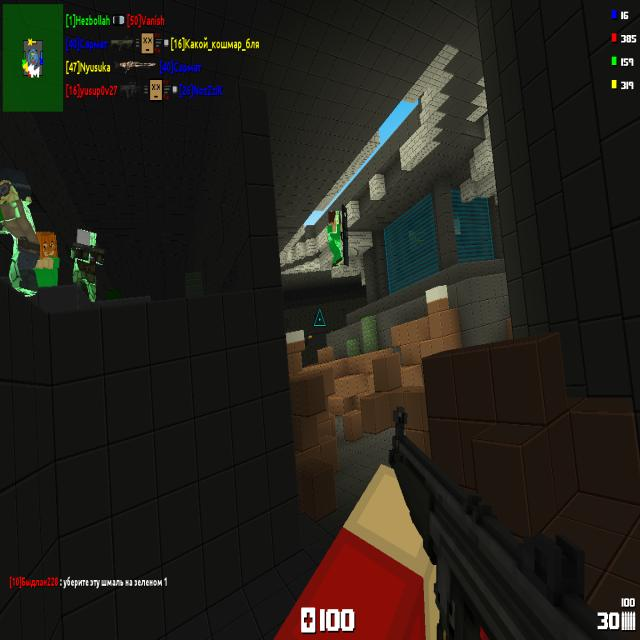enemy: (0, 169, 39, 302), (71, 226, 104, 302), (33, 230, 61, 288), (324, 211, 344, 267), (308, 334, 312, 339), (331, 330, 333, 332)
